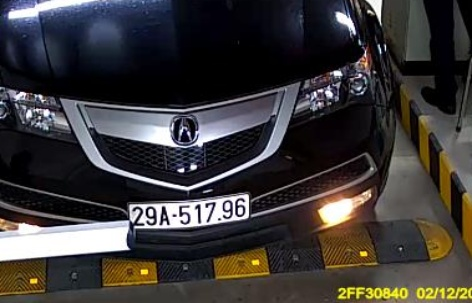plate: (126, 193, 255, 230)
